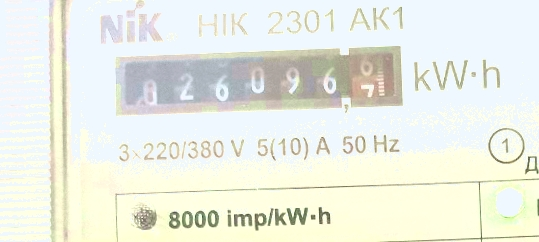0: (246, 62, 267, 98), (138, 75, 159, 107)
2: (174, 69, 196, 105)
6: (211, 70, 231, 105), (319, 63, 338, 96), (355, 51, 375, 79)
7: (357, 80, 376, 102)
9: (282, 64, 302, 97)
screen: (103, 36, 411, 129)
